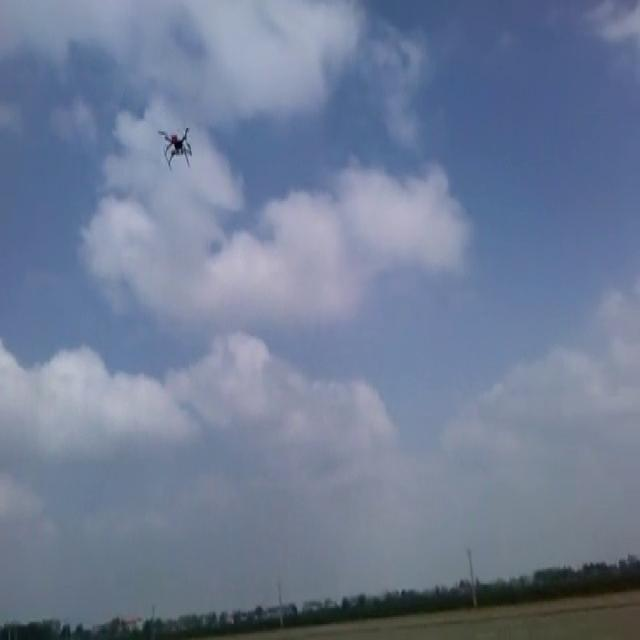drone: (155, 119, 195, 173)
